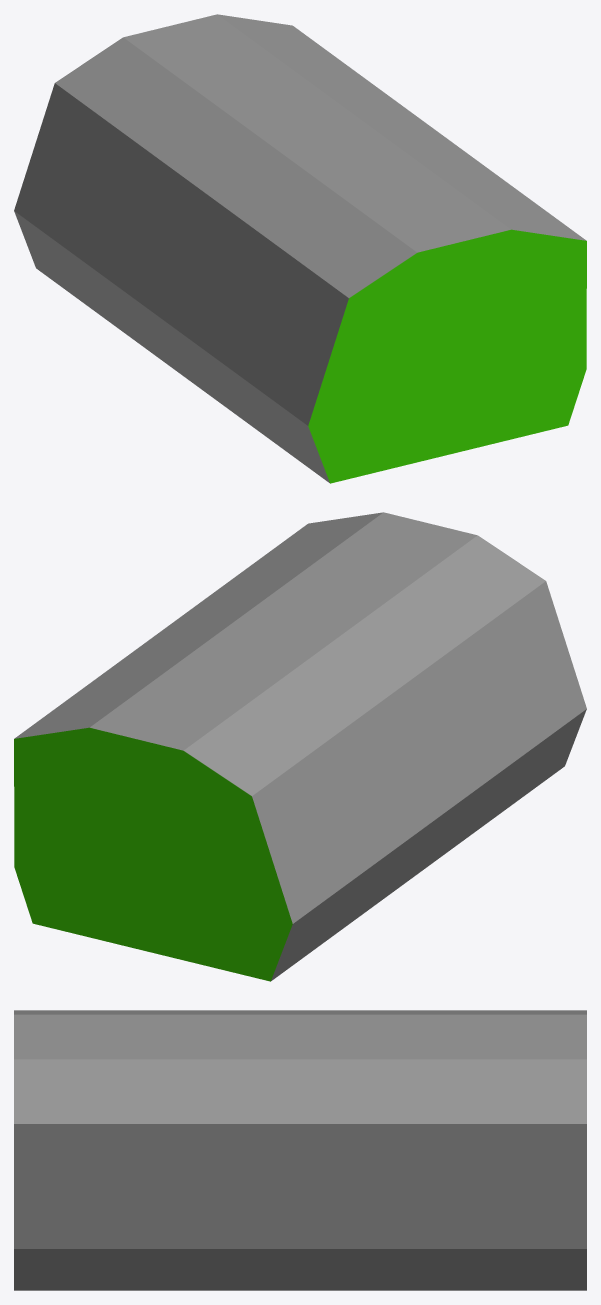
Rendered from SMB_groundDetail_B.fbx.
3 renders of one model, top to bottom at view 1: azimuth 30°, elevation 25°; view 2: azimuth 150°, elevation 25°; view 3: azimuth 270°, elevation 25°, orthographic. The views are drawn at different scales.
Parts seen in each view (by area): view 1: SMB_groundDetail_B; view 2: SMB_groundDetail_B; view 3: SMB_groundDetail_B.
Part boxes in pixels (<box>): SMB_groundDetail_B: <box>14,14,586,483</box>; SMB_groundDetail_B: <box>14,512,586,981</box>; SMB_groundDetail_B: <box>14,1010,586,1290</box>.
Size of the model in its own units: 547 by 393 by 1000.
